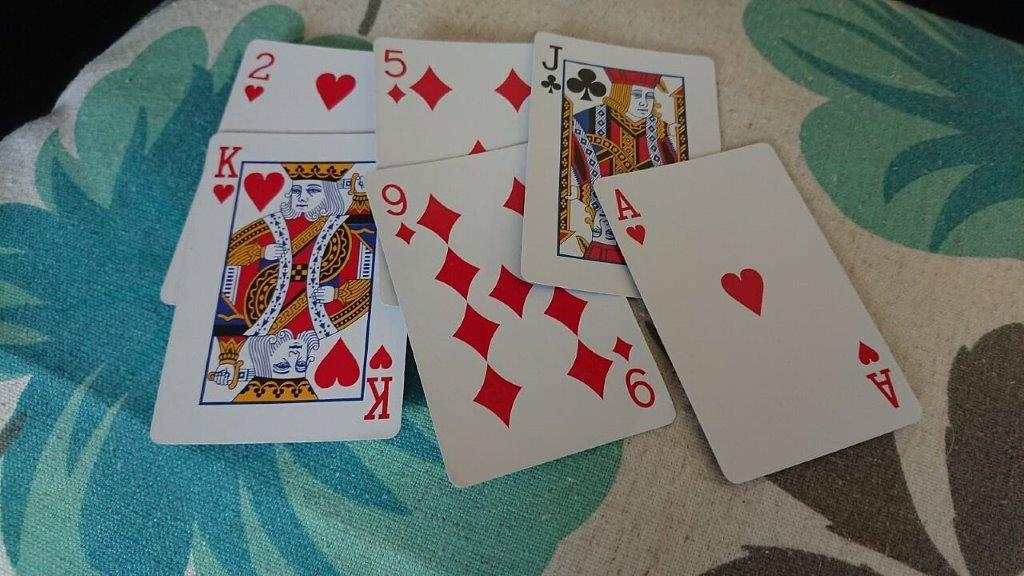2H: (237, 45, 283, 112)
5D: (378, 41, 420, 113)
9D: (372, 176, 427, 253)
AH: (601, 181, 661, 253)
JC: (533, 39, 572, 103)
KH: (208, 139, 250, 212)
